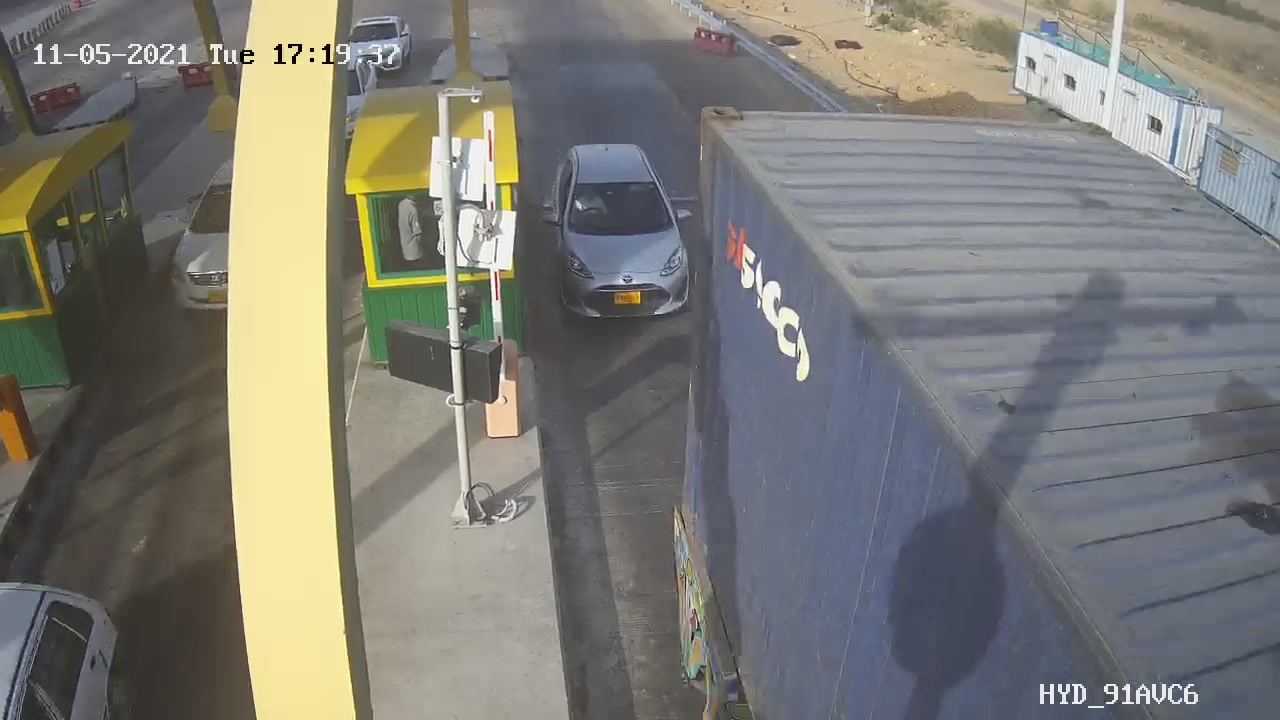F1: (530, 127, 714, 339)
